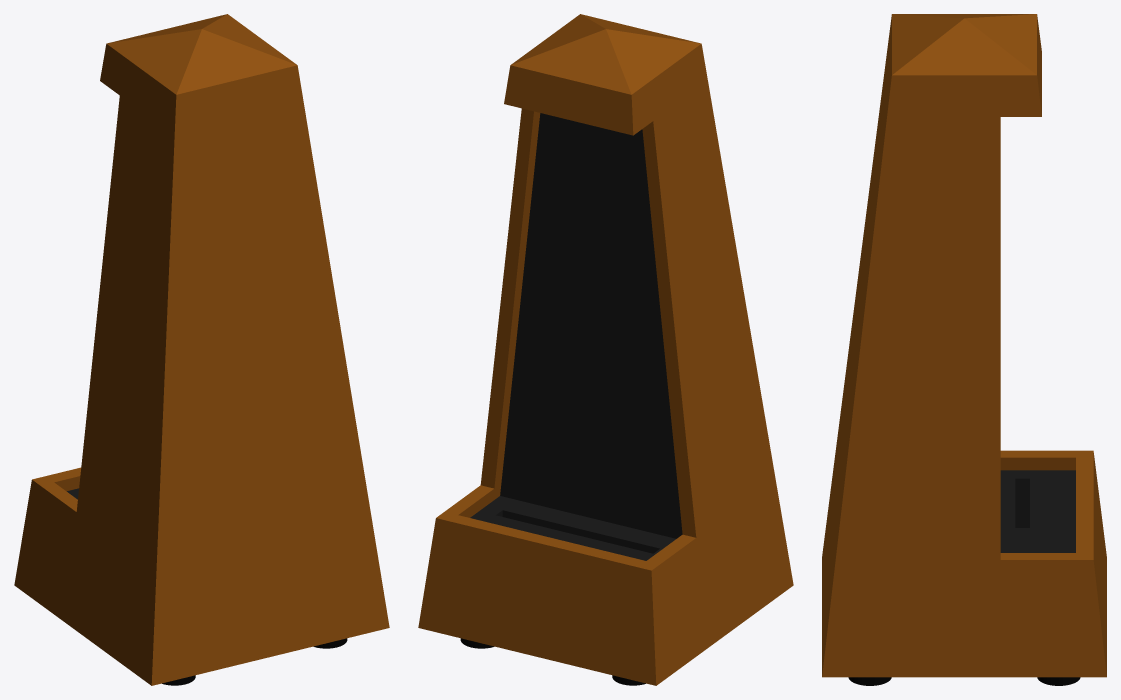
File: metronom.fbx
The picture shows the model from 3 angles, left to right: view 1: azimuth 30°, elevation 25°; view 2: azimuth 150°, elevation 25°; view 3: azimuth 270°, elevation 25°; orthographic projection. The views are drawn at different scales.
Visible parts, largest first — view 1: Cube; view 2: Cube, Cube.003; view 3: Cube, Cube.003.
Part boxes in pixels (bbox=[...]): Cube: bbox=[14, 14, 389, 685]; Cube: bbox=[418, 14, 793, 685]; Cube.003: bbox=[470, 113, 682, 560]; Cube: bbox=[822, 14, 1106, 677]; Cube.003: bbox=[1000, 470, 1075, 552].
Size of the model in its own units: 392 by 940 by 392.
